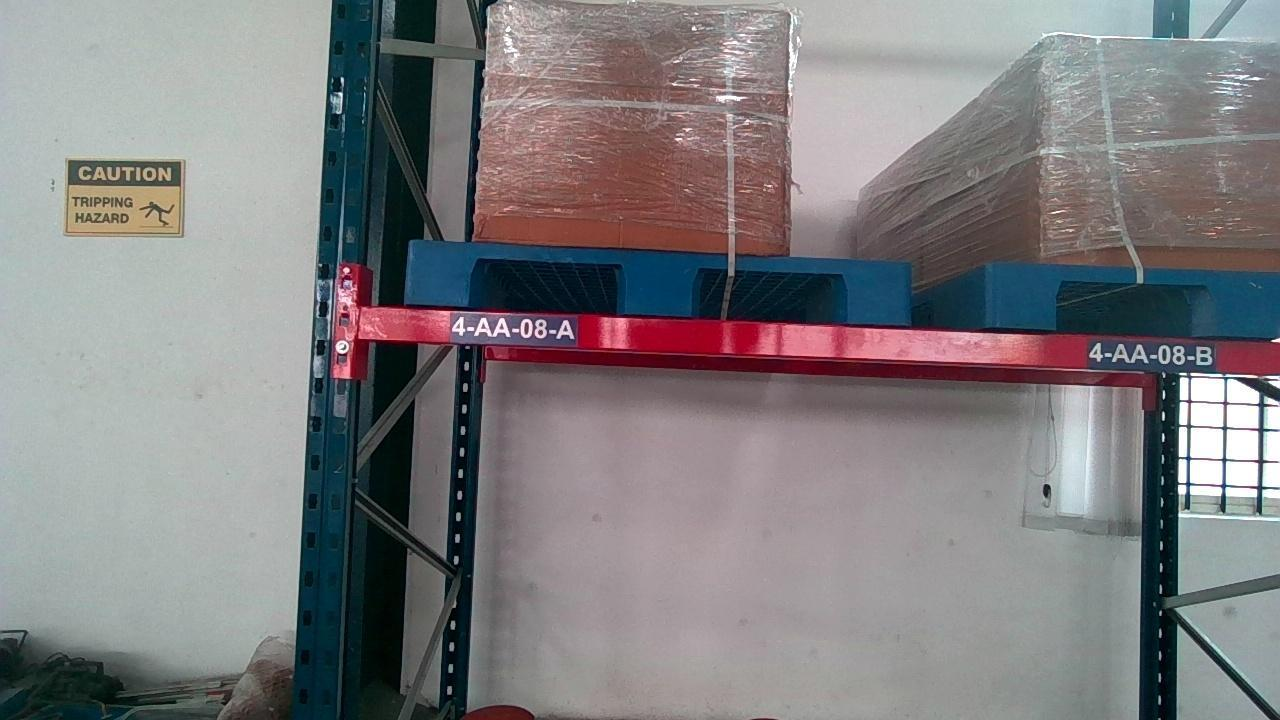h_rack: (360, 307, 1280, 374)
small_pallet: (400, 246, 914, 316), (993, 266, 1278, 331)
